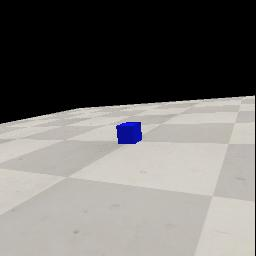box: (116, 122, 142, 144)
